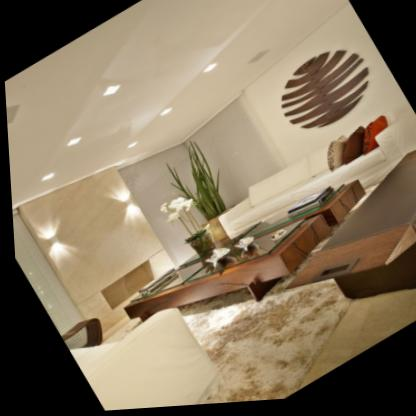Carpet: (180, 284, 347, 407)
Gypsum Board: (0, 0, 370, 241)
Wall Panel: (183, 5, 404, 210), (10, 143, 215, 348)
